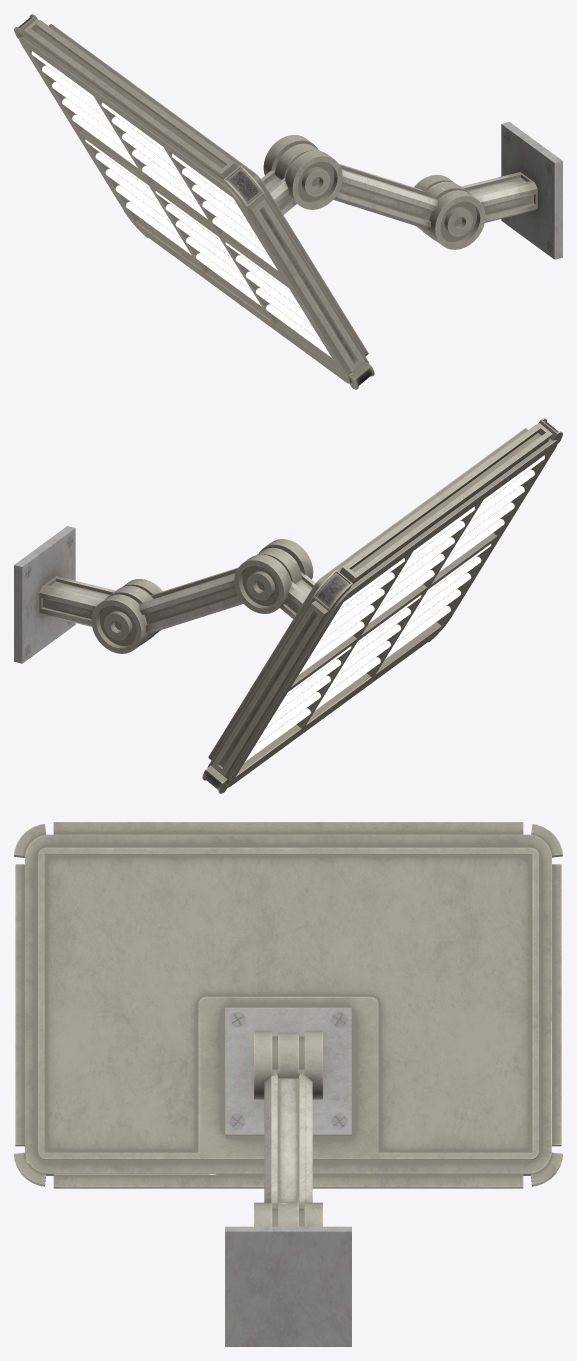
The model's file is SM_Reflector-1.fbx.
3 renders of one model, top to bottom at view 1: azimuth 30°, elevation 25°; view 2: azimuth 150°, elevation 25°; view 3: azimuth 270°, elevation 25°, orthographic. The views are drawn at different scales.
Visible parts, largest first — view 1: SM_Reflector-1_LOD0; view 2: SM_Reflector-1_LOD0; view 3: SM_Reflector-1_LOD0.
Boxes of the visible parts, x1,y1,x2,y2 form: SM_Reflector-1_LOD0: (14,14,562,389); SM_Reflector-1_LOD0: (14,418,562,793); SM_Reflector-1_LOD0: (14,822,562,1346).
Bounding box in the file's own units: 297 × 171 × 286.
1 material, 1 textured.
